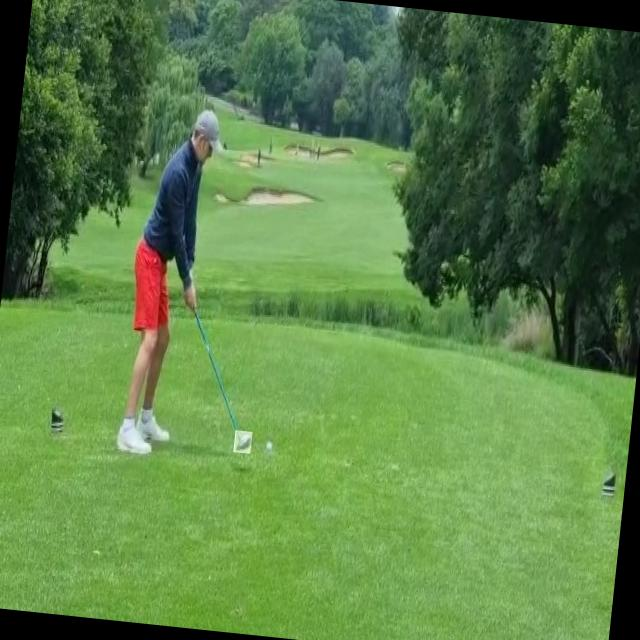club head: (233, 429, 252, 454)
